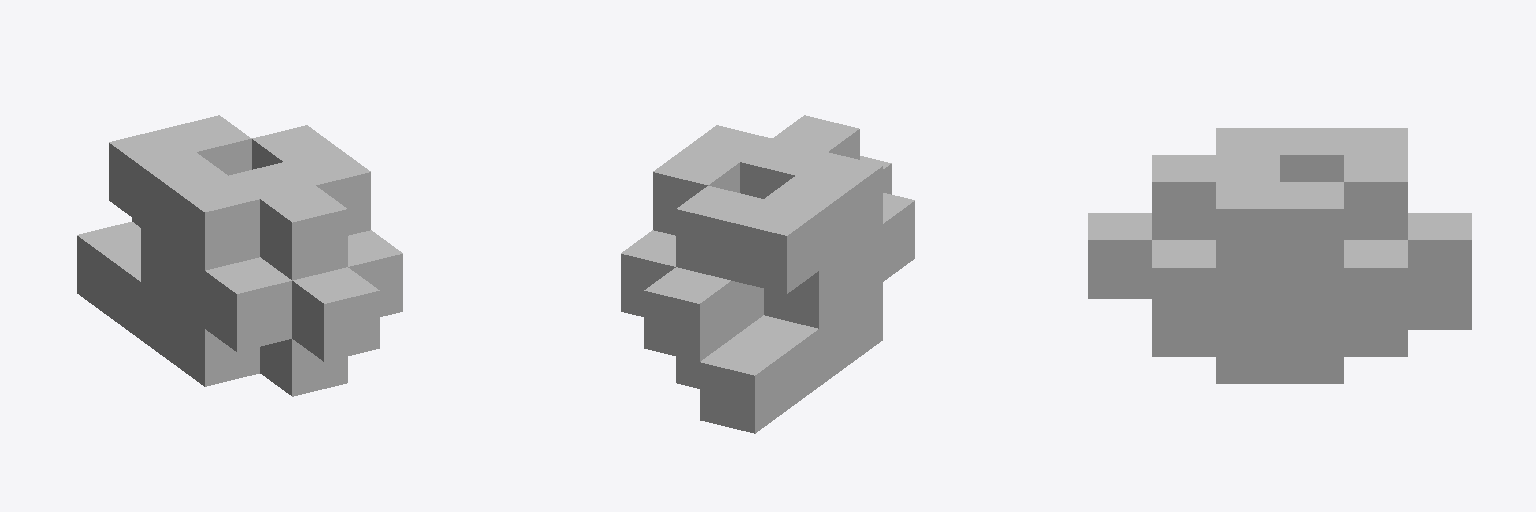
The model's file is Bullet.obj.
The picture shows the model from 3 angles: view 1: azimuth 30°, elevation 25°; view 2: azimuth 150°, elevation 25°; view 3: azimuth 270°, elevation 25°; orthographic projection.
Parts seen in each view (by area): view 1: object 1; view 2: object 1; view 3: object 1.
Part boxes in pixels (x1,y1,x2,y2): object 1: (77,115,402,396); object 1: (621,115,914,433); object 1: (1088,128,1471,383).
Bounding box in the file's own units: 0.3 × 0.3 × 0.6.